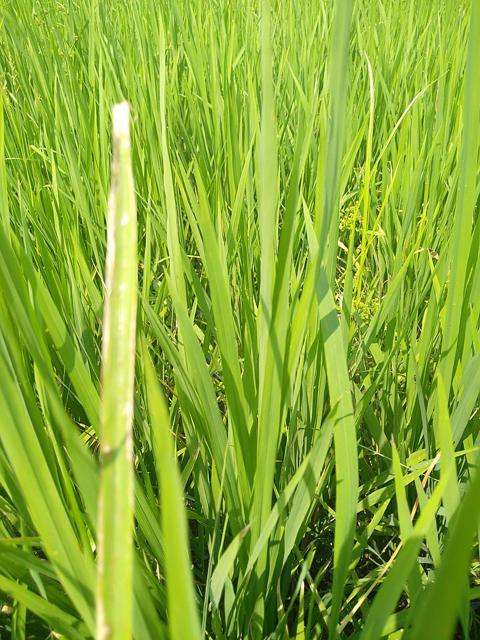Leaf Blight: (96, 102, 137, 639)
